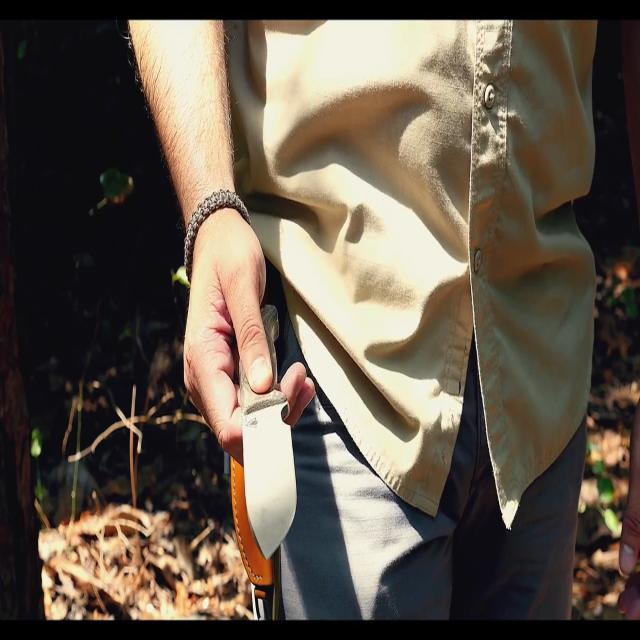knife: (241, 296, 297, 563)
